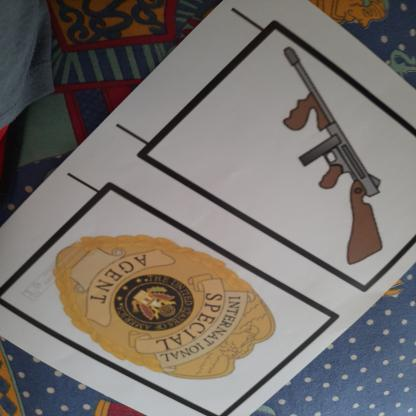Bootlegger: (268, 44, 396, 271)
G-man: (51, 228, 295, 388)
